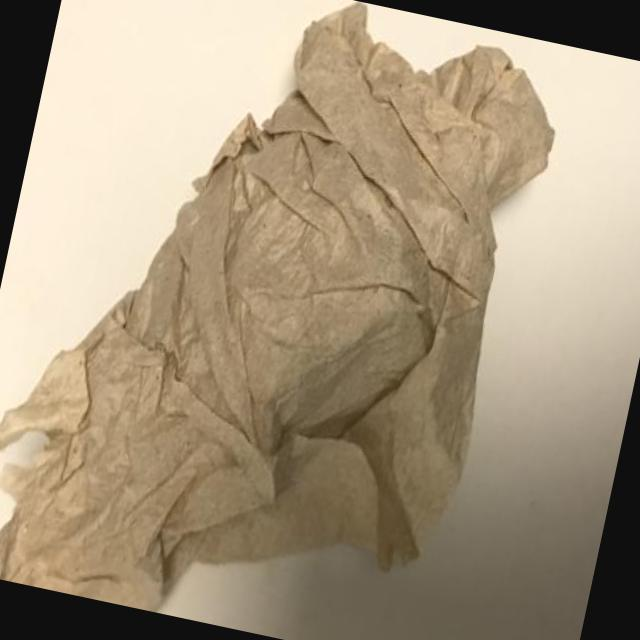Trash: (0, 0, 581, 640)
